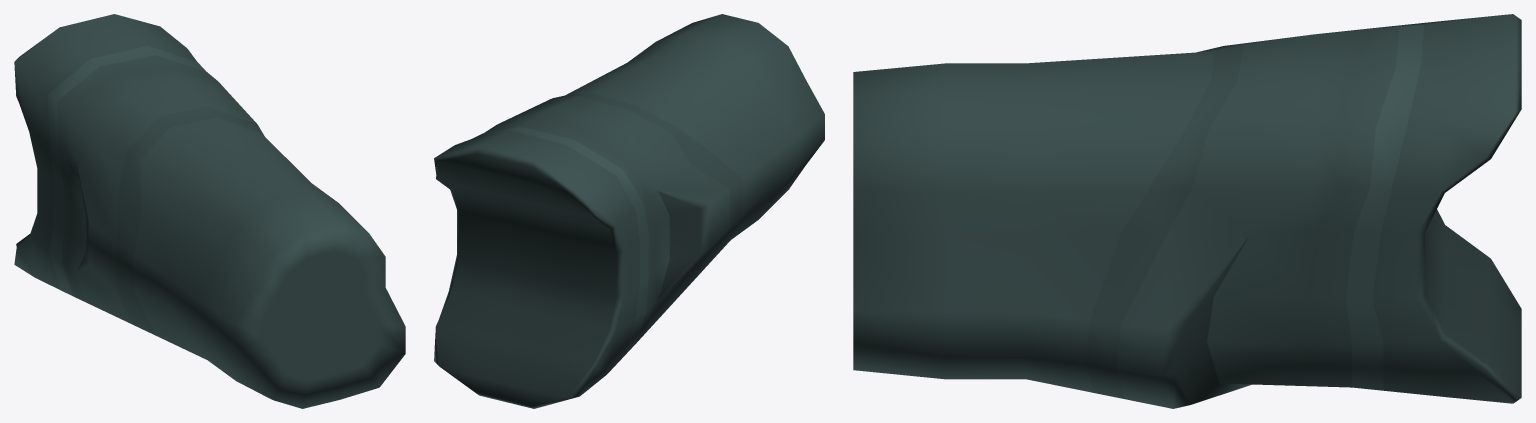
File: AlienPillar.002.glb
3 views of the same model, side by side, from view 1: azimuth 30°, elevation 25°; view 2: azimuth 150°, elevation 25°; view 3: azimuth 270°, elevation 25° (orthographic). The views are drawn at different scales.
Visible parts, largest first — view 1: AlienPillar.002; view 2: AlienPillar.002; view 3: AlienPillar.002.
Part boxes in pixels (box(x1,y1,x2,y2)): AlienPillar.002: box(14, 14, 405, 408); AlienPillar.002: box(434, 14, 824, 408); AlienPillar.002: box(853, 14, 1521, 408).
Size of the model in its own units: 2015 by 2389 by 4111.
